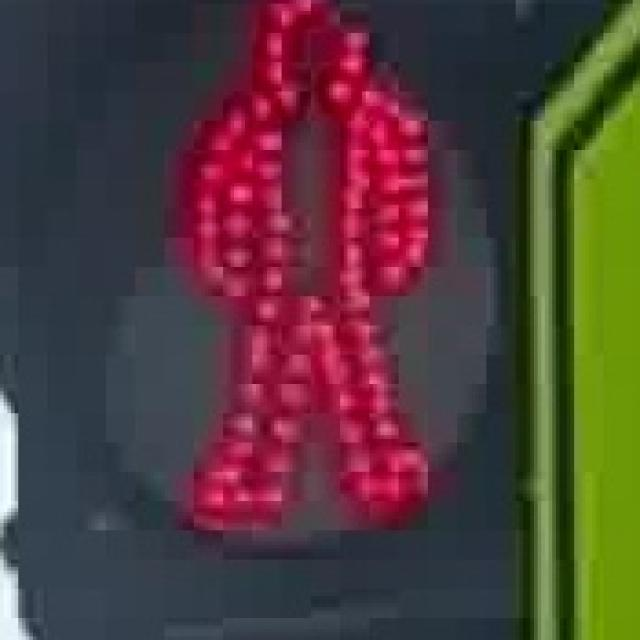red-crossing: (171, 2, 457, 520)
